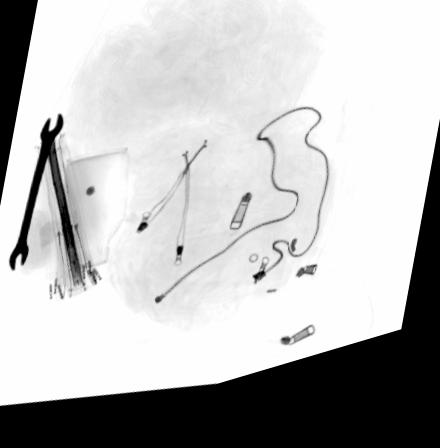Wrench: (7, 114, 66, 272), (7, 115, 65, 273), (15, 255, 23, 266)
